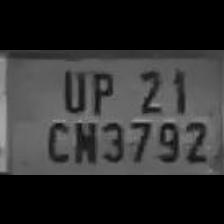1: (167, 62, 189, 112)
2: (134, 64, 166, 112), (181, 116, 208, 166)
3: (96, 118, 126, 164)
7: (125, 118, 152, 164)
9: (153, 116, 180, 162)
C: (40, 116, 72, 162)
N: (70, 118, 98, 162)
P: (86, 64, 116, 112)
U: (56, 64, 88, 110)
